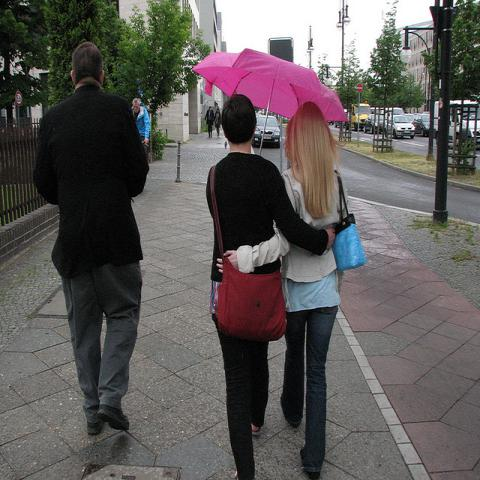car: (252, 115, 280, 148), (384, 115, 416, 139), (364, 114, 386, 134), (375, 108, 404, 123), (412, 114, 430, 136), (404, 113, 416, 125), (370, 107, 375, 115)
truck: (432, 99, 479, 147)
